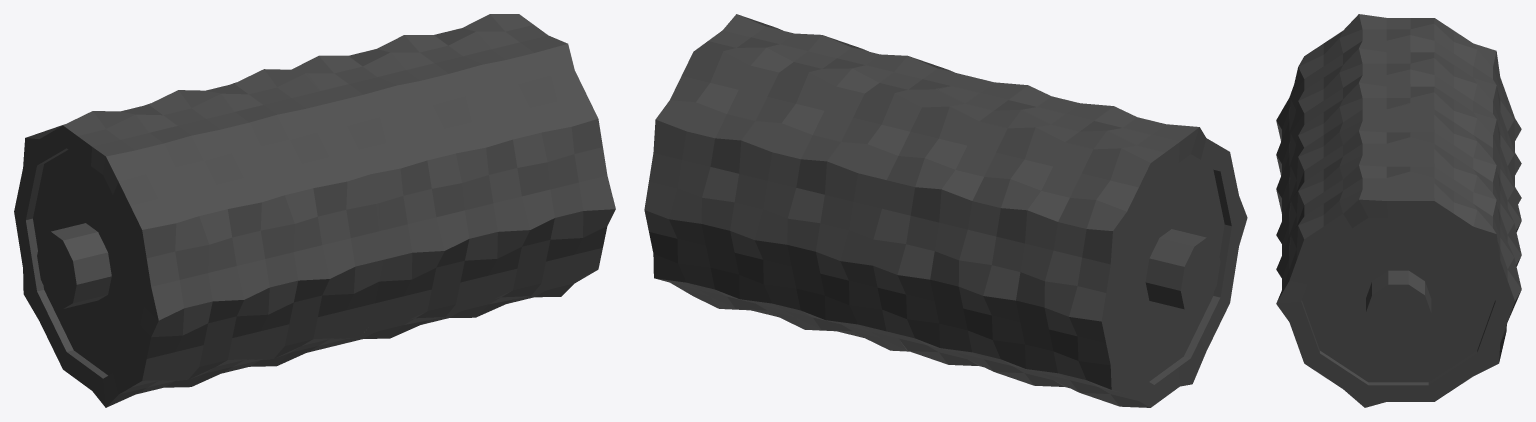
Rendered from Meater_Roll.fbx.
The picture shows the model from 3 angles, left to right: view 1: azimuth 30°, elevation 25°; view 2: azimuth 150°, elevation 25°; view 3: azimuth 270°, elevation 25°; orthographic projection. The views are drawn at different scales.
Parts seen in each view (by area): view 1: Meater_Roll; view 2: Meater_Roll; view 3: Meater_Roll.
Boxes of the visible parts, box(x1,y1,x2,y2) form: Meater_Roll: box(14, 14, 615, 407); Meater_Roll: box(644, 14, 1247, 407); Meater_Roll: box(1276, 14, 1521, 407).
Bounding box in the file's own units: 418 × 202 × 211.
1 material, 1 textured.
